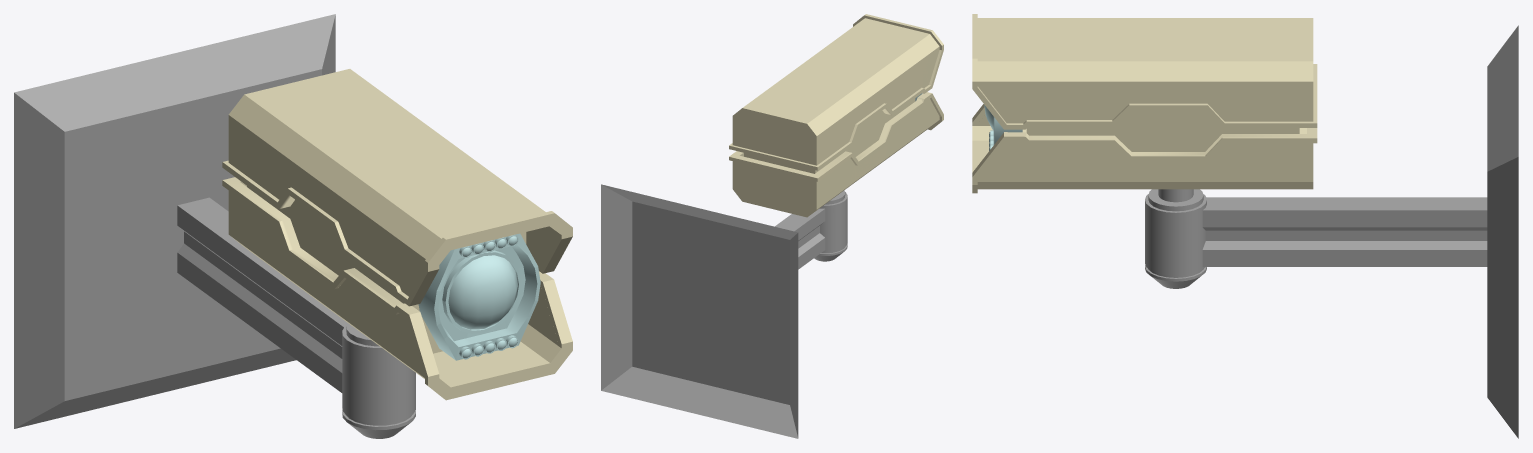
File: Sec_Cam_Fixed.fbx
The picture shows the model from 3 angles, left to right: view 1: azimuth 30°, elevation 25°; view 2: azimuth 150°, elevation 25°; view 3: azimuth 270°, elevation 25°; orthographic projection. The views are drawn at different scales.
Parts seen in each view (by area): view 1: mountarm_low, camera_body; view 2: mountarm_low, camera_body; view 3: camera_body, mountarm_low.
Part boxes in pixels (<box>): mountarm_low: <box>14,14,415,438</box>; camera_body: <box>222,69,572,400</box>; mountarm_low: <box>601,184,847,438</box>; camera_body: <box>729,14,943,217</box>; camera_body: <box>972,14,1317,193</box>; mountarm_low: <box>1145,25,1518,438</box>.
Size of the model in its own units: 100 by 119 by 175.
